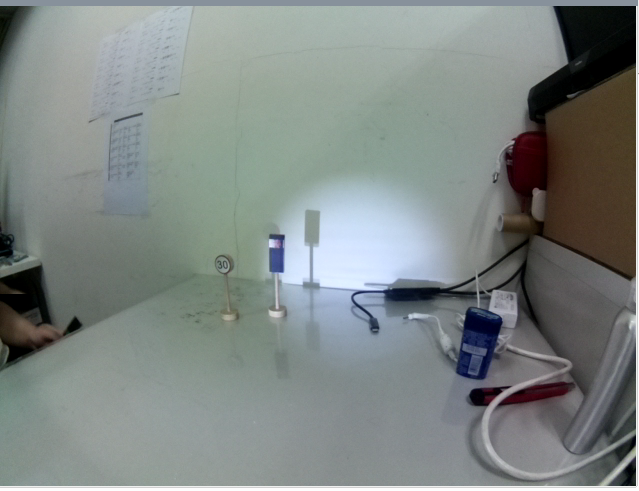Red: (267, 231, 287, 274)
Speed30: (213, 253, 237, 274)
